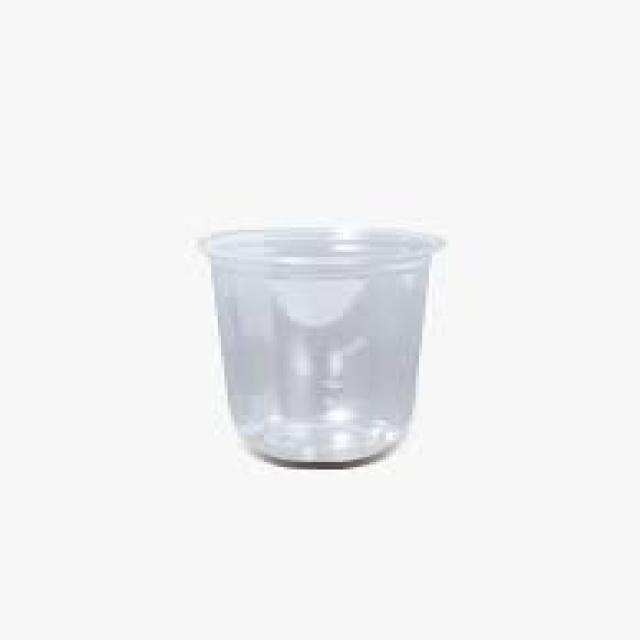cup: (174, 200, 462, 513)
